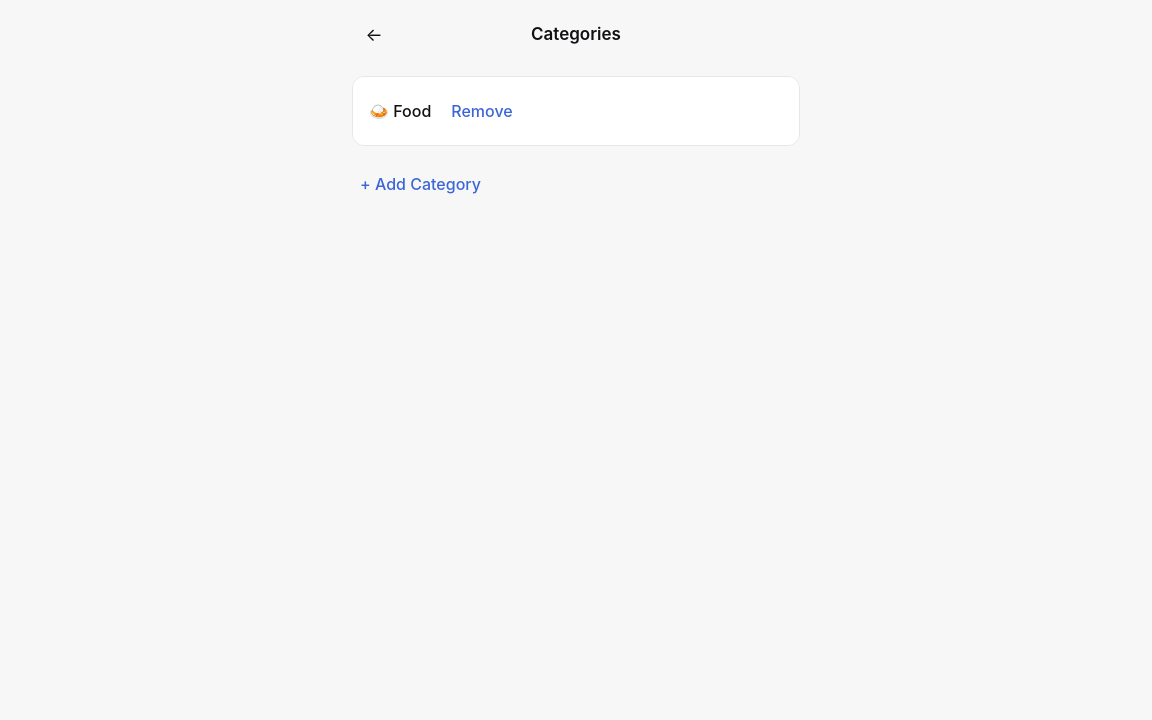
CategoriesScreen › adds a category without a password
This screenshot has width=1152, height=720.
Click the button "+ Add Category" at {"x": 420, "y": 184}, box [352,162,489,206]
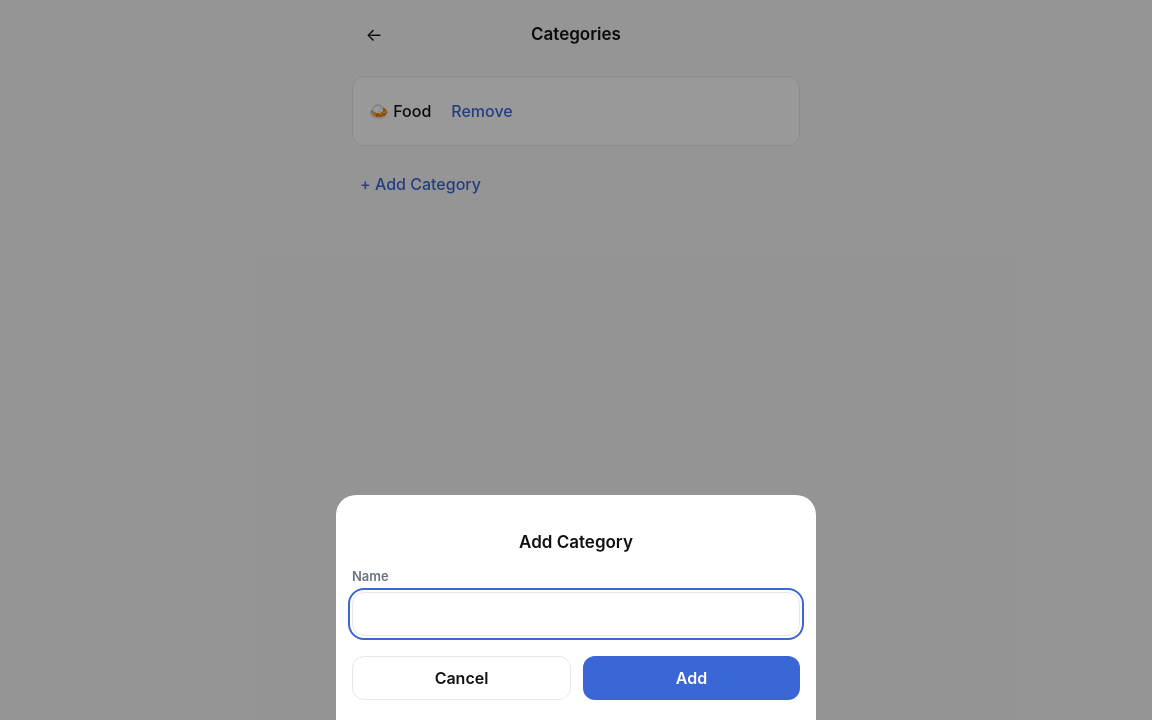
Type "Travel" into the field labelled "Name" at {"x": 576, "y": 614}, box [352,592,800,636]
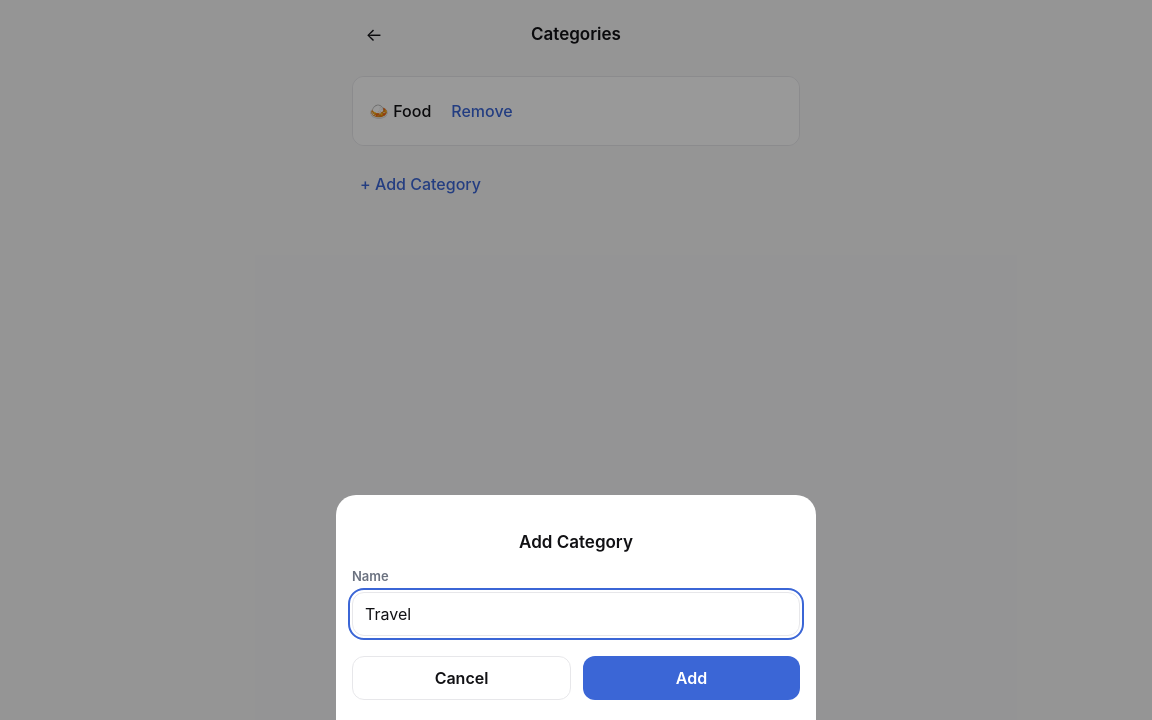
Click the button "Add" at {"x": 692, "y": 678}, box [583,656,800,700]
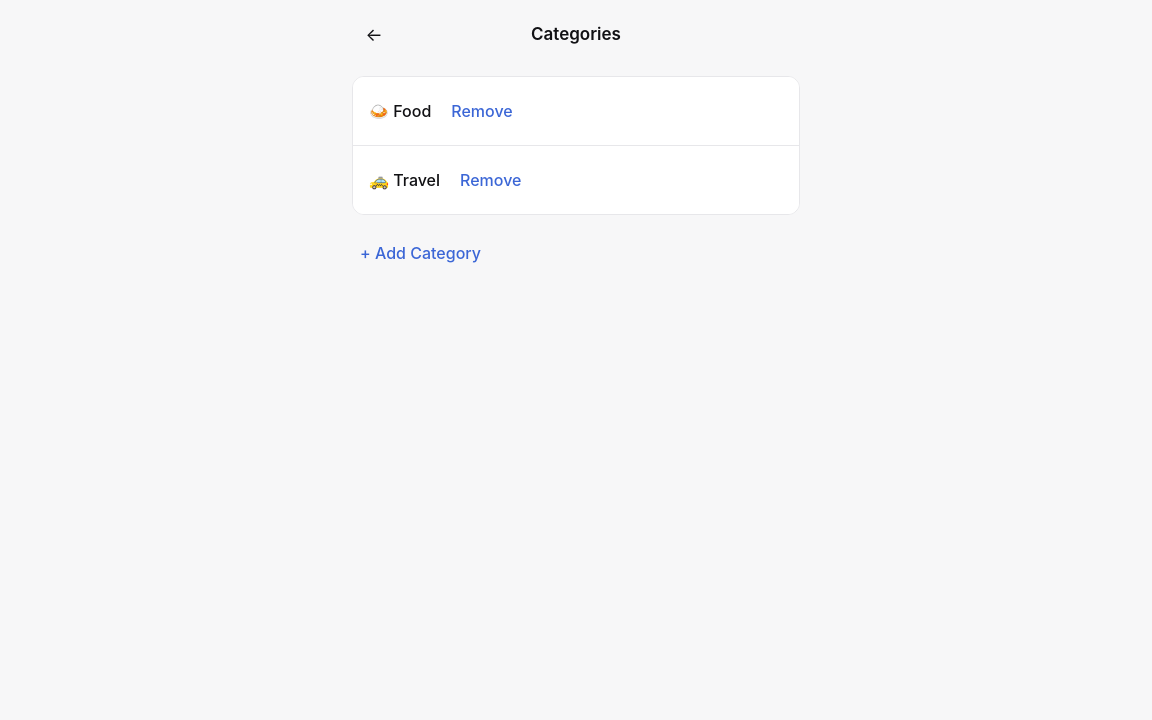
expect the text "🚕 Travel" is shown: met, box [369,170,440,190]
